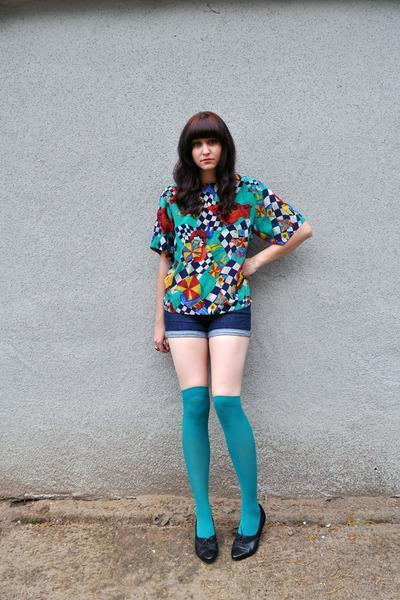shirt: (150, 180, 299, 314)
shoe: (194, 504, 266, 563)
shorts: (164, 299, 251, 347)
